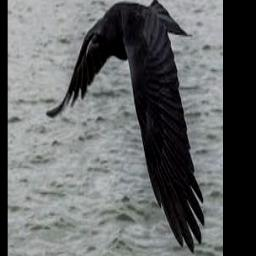Crow: (45, 0, 205, 252)
